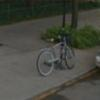bicycles: (37, 33, 76, 76)
